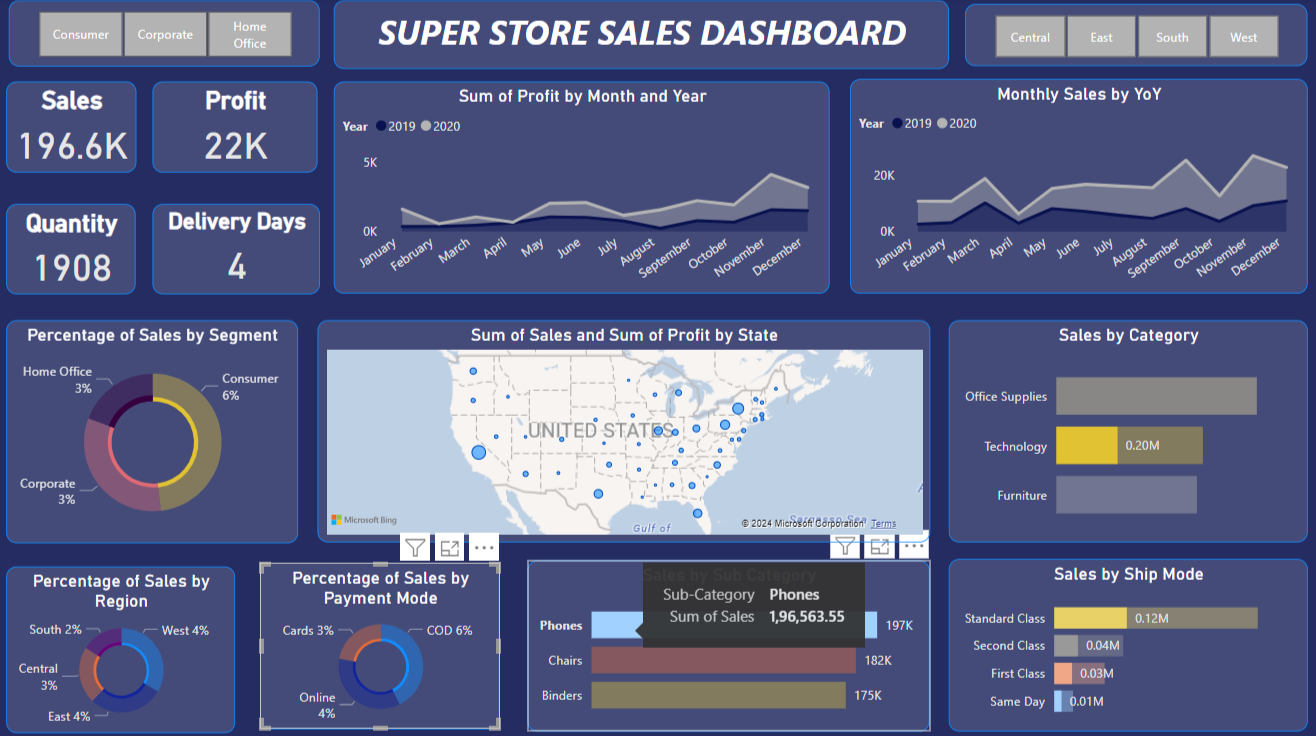

The page's visual inventory and layout, read from the dashboard file:
{"tool":"powerbi","page":{"name":"Page 1","canvas":[1280,720],"ordinal":0},"visuals":[{"type":"clusteredBarChart","title":"Sales by Category","fields":{"Category":["SuperStore_Sales_Dataset.Category"],"Y":["Sum(SuperStore_Sales_Dataset.Sales)"]},"box":[920.2,311.2,346.1,214.7],"z":0},{"type":"clusteredBarChart","title":"Sales by Sub Category","fields":{"Category":["SuperStore_Sales_Dataset.Sub-Category"],"Y":["Sum(SuperStore_Sales_Dataset.Sales)"]},"box":[513.8,542.7,388.3,165.2],"z":1000},{"type":"clusteredBarChart","title":"Sales by Ship Mode","fields":{"Category":["SuperStore_Sales_Dataset.Ship Mode"],"Y":["Sum(SuperStore_Sales_Dataset.Sales)"]},"box":[920,541.2,346.2,166.2],"z":2000},{"type":"stackedAreaChart","title":"Monthly Sales by YoY","fields":{"Y":["Sum(SuperStore_Sales_Dataset.Sales)"],"Category":["SuperStore_Sales_Dataset.Order Date.Variation.Date Hierarchy.Month","SuperStore_Sales_Dataset.Order Date.Variation.Date Hierarchy.Day"],"Series":["SuperStore_Sales_Dataset.Order Date.Variation.Date Hierarchy.Year"]},"box":[825,78.8,441.2,207.5],"z":3000},{"type":"stackedAreaChart","fields":{"Category":["SuperStore_Sales_Dataset.Order Date.Variation.Date Hierarchy.Month","SuperStore_Sales_Dataset.Order Date.Variation.Date Hierarchy.Day"],"Series":["SuperStore_Sales_Dataset.Order Date.Variation.Date Hierarchy.Year"],"Y":["Sum(SuperStore_Sales_Dataset.Profit)"]},"box":[326.2,81.2,478.8,205],"z":4000},{"type":"map","fields":{"Category":["SuperStore_Sales_Dataset.State"],"Size":["Sum(SuperStore_Sales_Dataset.Sales)"]},"box":[311.2,311.2,591,214.7],"z":5000},{"type":"donutChart","title":"Percentage of Sales by Segment","fields":{"Category":["SuperStore_Sales_Dataset.Segment"],"Y":["Sum(SuperStore_Sales_Dataset.Sales)"]},"box":[11.2,311.2,281.2,215],"z":6000},{"type":"donutChart","title":"Percentage of Sales by Payment Mode","fields":{"Category":["SuperStore_Sales_Dataset.Payment Mode"],"Y":["Sum(SuperStore_Sales_Dataset.Sales)"]},"box":[255.7,545.1,231.6,160.4],"z":7000},{"type":"slicer","fields":{"Values":["SuperStore_Sales_Dataset.Region"]},"box":[936.2,6.2,330,60],"z":8000},{"type":"textbox","box":[326.2,2.5,593.8,66.2],"z":9000},{"type":"card","title":"Sales","fields":{"Values":["Sum(SuperStore_Sales_Dataset.Sales)"]},"box":[11.2,81.2,125,87.5],"z":10000},{"type":"card","title":"Quantity","fields":{"Values":["Sum(SuperStore_Sales_Dataset.Quantity)"]},"box":[11.2,198.8,125,87.5],"z":11000},{"type":"card","title":"Profit","fields":{"Values":["Sum(SuperStore_Sales_Dataset.Profit)"]},"box":[161.2,81.2,152.5,87.5],"z":12000},{"type":"card","title":"Delivery Days","fields":{"Values":["Avg(SuperStore_Sales_Dataset.AvgDelievery)"]},"box":[162.5,198.8,151.2,87.5],"z":13000},{"type":"donutChart","title":"Percentage of Sales by Region","fields":{"Category":["SuperStore_Sales_Dataset.Region"],"Y":["Sum(SuperStore_Sales_Dataset.Sales)"]},"box":[10.9,548.7,220.7,160.4],"z":14000},{"type":"slicer","fields":{"Values":["SuperStore_Sales_Dataset.Segment"]},"box":[11.2,2.5,300,63.8],"z":15000}]}

Visuals, with their boxes in screenshot pixels (x1, y1, x2, y2), scaled from the page's 1280x720 canvas onto the 1316x736 screenshot:
"Sales by Category" clusteredBarChart: {"x1": 946, "y1": 318, "x2": 1302, "y2": 538}
"Sales by Sub Category" clusteredBarChart: {"x1": 528, "y1": 555, "x2": 927, "y2": 724}
"Sales by Ship Mode" clusteredBarChart: {"x1": 946, "y1": 553, "x2": 1302, "y2": 723}
"Monthly Sales by YoY" stackedAreaChart: {"x1": 848, "y1": 81, "x2": 1302, "y2": 293}
stackedAreaChart - SuperStore_Sales_Dataset.Order Date.Variation.Date Hierarchy.Month x SuperStore_Sales_Dataset.Order Date.Variation.Date Hierarchy.Day: {"x1": 335, "y1": 83, "x2": 828, "y2": 293}
map - SuperStore_Sales_Dataset.State x Sum(SuperStore_Sales_Dataset.Sales): {"x1": 320, "y1": 318, "x2": 928, "y2": 538}
"Percentage of Sales by Segment" donutChart: {"x1": 12, "y1": 318, "x2": 301, "y2": 538}
"Percentage of Sales by Payment Mode" donutChart: {"x1": 263, "y1": 557, "x2": 501, "y2": 721}
slicer - SuperStore_Sales_Dataset.Region: {"x1": 963, "y1": 6, "x2": 1302, "y2": 68}
textbox: {"x1": 335, "y1": 3, "x2": 946, "y2": 70}
"Sales" card: {"x1": 12, "y1": 83, "x2": 140, "y2": 172}
"Quantity" card: {"x1": 12, "y1": 203, "x2": 140, "y2": 293}
"Profit" card: {"x1": 166, "y1": 83, "x2": 323, "y2": 172}
"Delivery Days" card: {"x1": 167, "y1": 203, "x2": 323, "y2": 293}
"Percentage of Sales by Region" donutChart: {"x1": 11, "y1": 561, "x2": 238, "y2": 725}
slicer - SuperStore_Sales_Dataset.Segment: {"x1": 12, "y1": 3, "x2": 320, "y2": 68}
